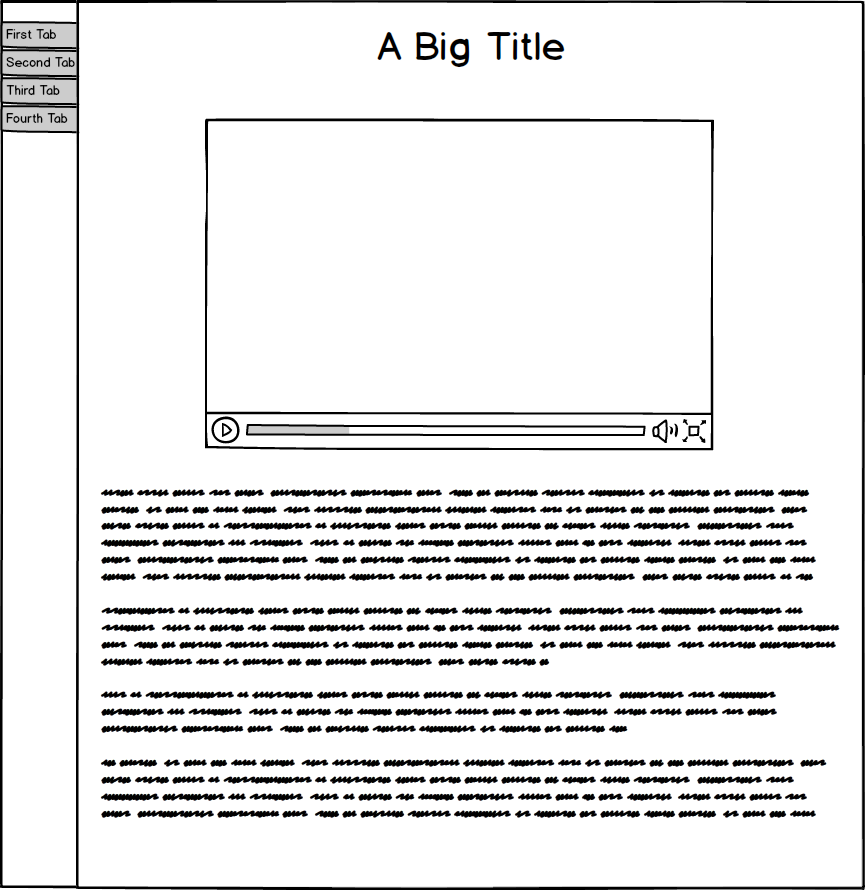h1: (371, 24, 571, 73)
p: (94, 482, 848, 825)
sidebar: (1, 15, 87, 140)
video: (199, 111, 718, 455)
